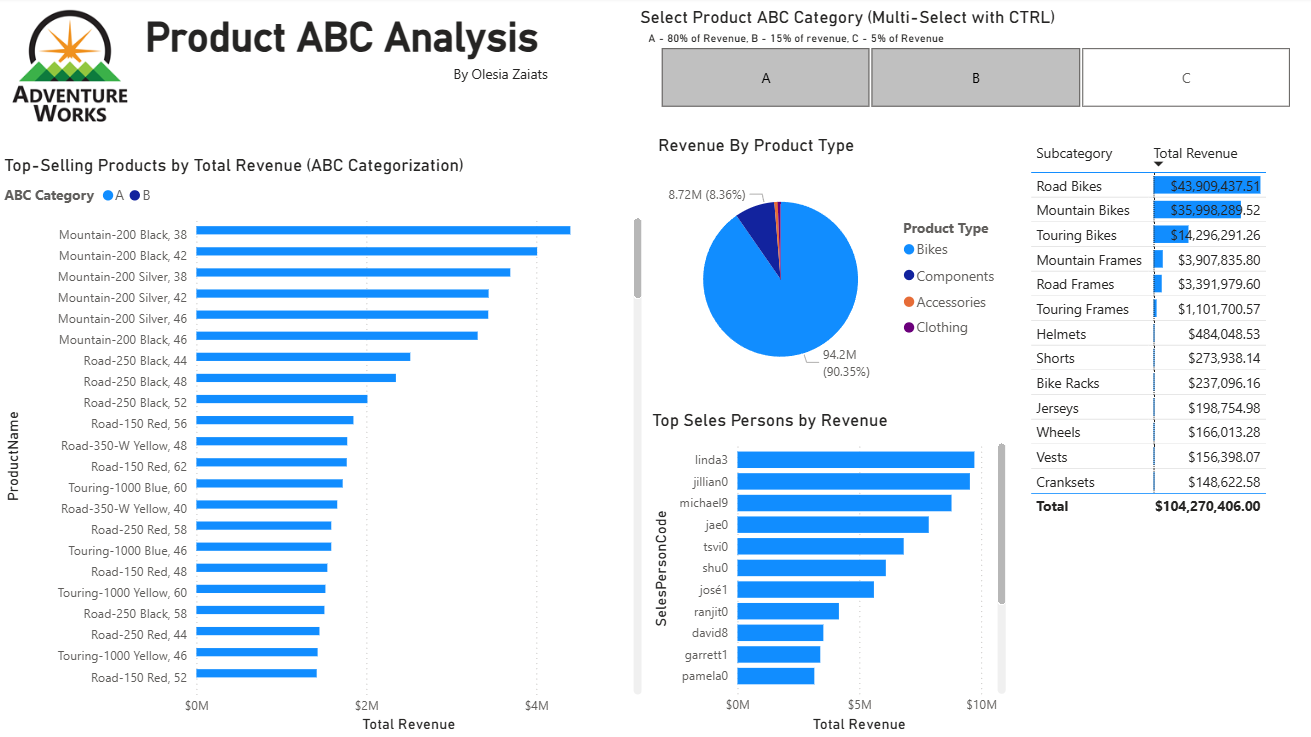

This screenshot's page, from the dashboard's own definition file:
{"tool":"powerbi","page":{"name":"Product ABC Analysis","canvas":[1280,720],"ordinal":1},"visuals":[{"type":"clusteredBarChart","title":"Top-Selling Products by Total Revenue (ABC Categorization)","fields":{"Category":["SalesInsights dim_Product.ProductName"],"Y":["SalesInsights fct_SalesOrderDetails.Total Revenue"],"Series":["ABC_ProductTable.ABC_Category"]},"box":[0,153.7,630.3,567.1],"z":0},{"type":"barChart","title":"Top Seles Persons by Revenue","fields":{"Category":["SalesInsights dim_SalesPerson.SelesPersonCode"],"Y":["SalesInsights fct_SalesOrderDetails.Total Revenue"]},"box":[630.3,401.7,354,318.1],"z":1000},{"type":"slicer","title":"Select Product ABC Category  (Multi-Select with CTRL)","fields":{"Values":["ABC_ProductTable.ABC_Category"]},"box":[618.6,9.7,661.4,104.1],"z":2000},{"type":"pieChart","title":"Revenue By Product Type","fields":{"Y":["Sum(ABC_ProductTable.ProductRevenue)"],"Category":["SalesInsights dim_Product.Category"]},"box":[636.1,134.2,348.2,261.6],"z":3000},{"type":"image","box":[0,0,137,134],"z":4000},{"type":"textbox","title":"Product ABC Analysis","box":[137.1,15.6,401.7,73.9],"z":5000},{"type":"tableEx","fields":{"Values":["SalesInsights dim_Product.Subcategory","SalesInsights fct_SalesOrderDetails.Total Revenue"]},"box":[997.9,134.2,282.1,585.5],"z":6000}]}

Visuals, with their boxes in screenshot pixels (x1, y1, x2, y2), scaled from the page's 1280x720 canvas onto the 1311x737 screenshot:
"Top-Selling Products by Total Revenue (ABC Categorization)" clusteredBarChart: 0, 157, 646, 736
"Top Seles Persons by Revenue" barChart: 646, 411, 1008, 736
"Select Product ABC Category  (Multi-Select with CTRL)" slicer: 634, 10, 1310, 116
"Revenue By Product Type" pieChart: 652, 137, 1008, 405
image: 0, 0, 140, 137
"Product ABC Analysis" textbox: 140, 16, 552, 92
tableEx - SalesInsights dim_Product.Subcategory x SalesInsights fct_SalesOrderDetails.Total Revenue: 1022, 137, 1310, 736
